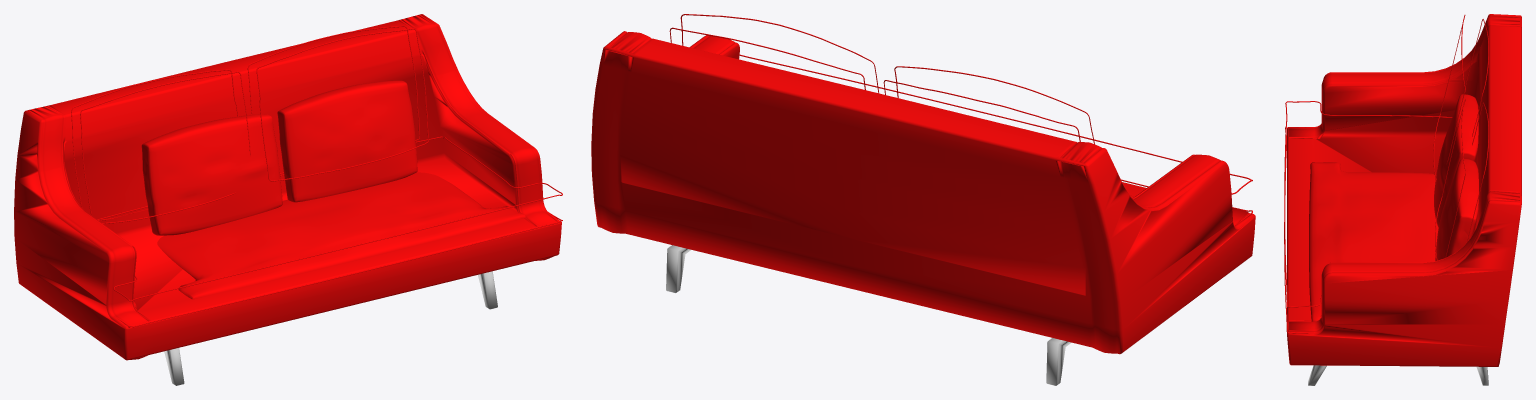
The picture shows the model from 3 angles, left to right: view 1: azimuth 30°, elevation 25°; view 2: azimuth 150°, elevation 25°; view 3: azimuth 270°, elevation 25°; orthographic projection. The views are drawn at different scales.
Visible parts, largest first — view 1: buffer-0-mesh-0_1_1, buffer-0-mesh-0_2_2, buffer-0-mesh-0_0; view 2: buffer-0-mesh-0_1_1, buffer-0-mesh-0_0; view 3: buffer-0-mesh-0_1_1, buffer-0-mesh-0_2_2, buffer-0-mesh-0_0.
Boxes of the visible parts, bbox=[...] form: buffer-0-mesh-0_1_1: bbox=[14, 14, 562, 360]; buffer-0-mesh-0_2_2: bbox=[141, 80, 525, 299]; buffer-0-mesh-0_0: bbox=[164, 271, 497, 385]; buffer-0-mesh-0_1_1: bbox=[591, 14, 1255, 354]; buffer-0-mesh-0_0: bbox=[666, 245, 1071, 385]; buffer-0-mesh-0_1_1: bbox=[1284, 14, 1521, 366]; buffer-0-mesh-0_2_2: bbox=[1309, 94, 1478, 321]; buffer-0-mesh-0_0: bbox=[1308, 365, 1488, 385].
Size of the model in its own units: 1.37 by 0.6866 by 0.6655.
